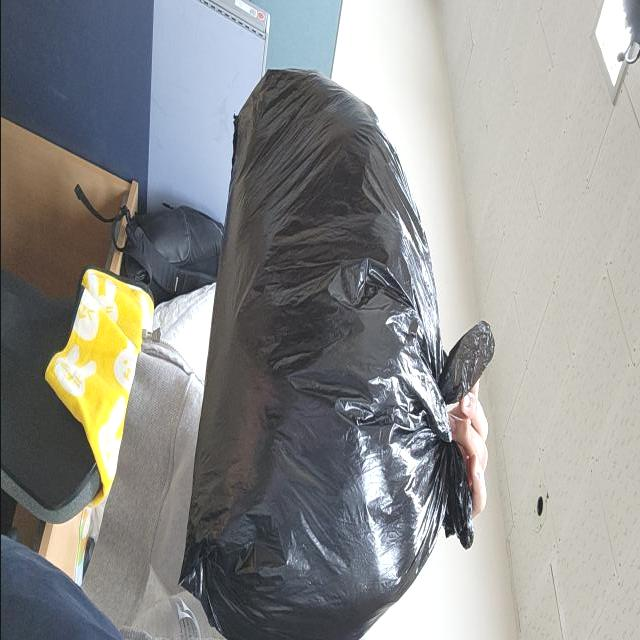black_bag: (173, 68, 498, 640)
